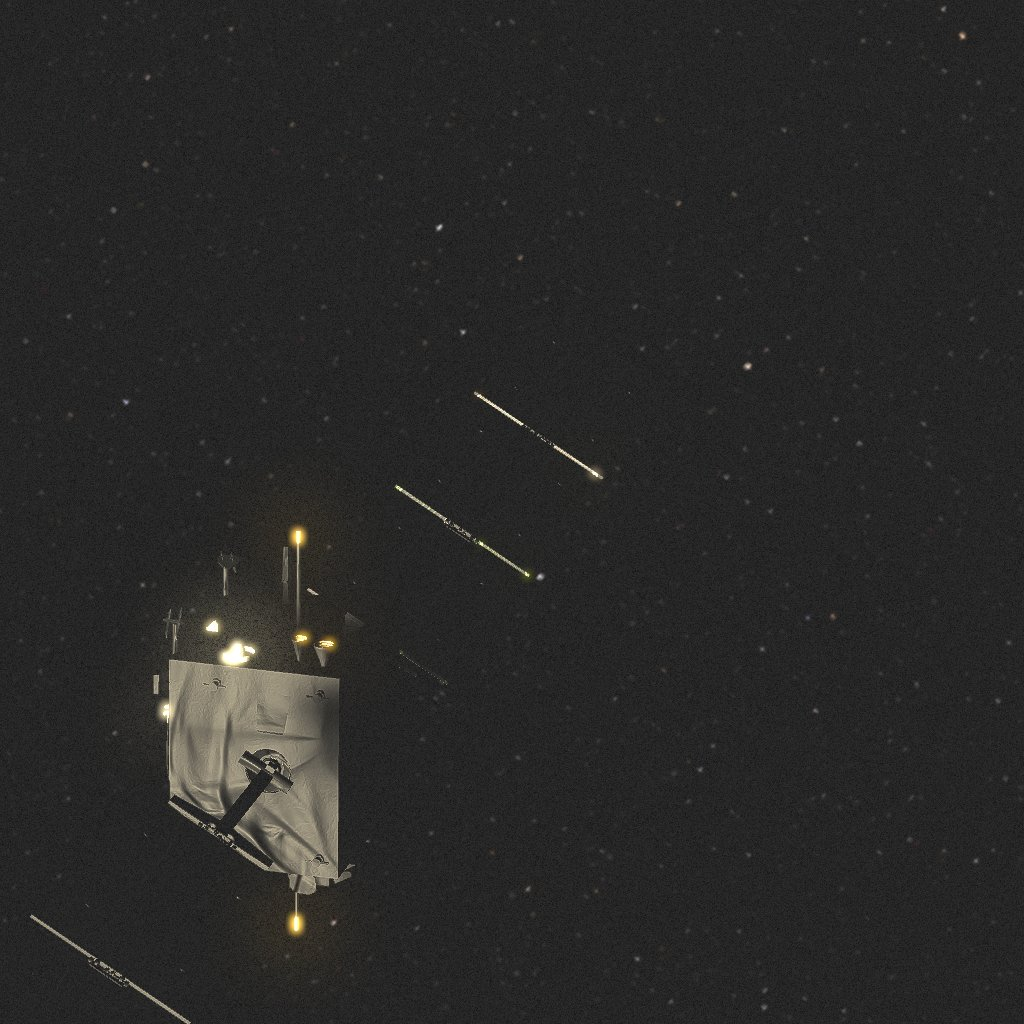smart_1: (29, 365, 600, 1007)
